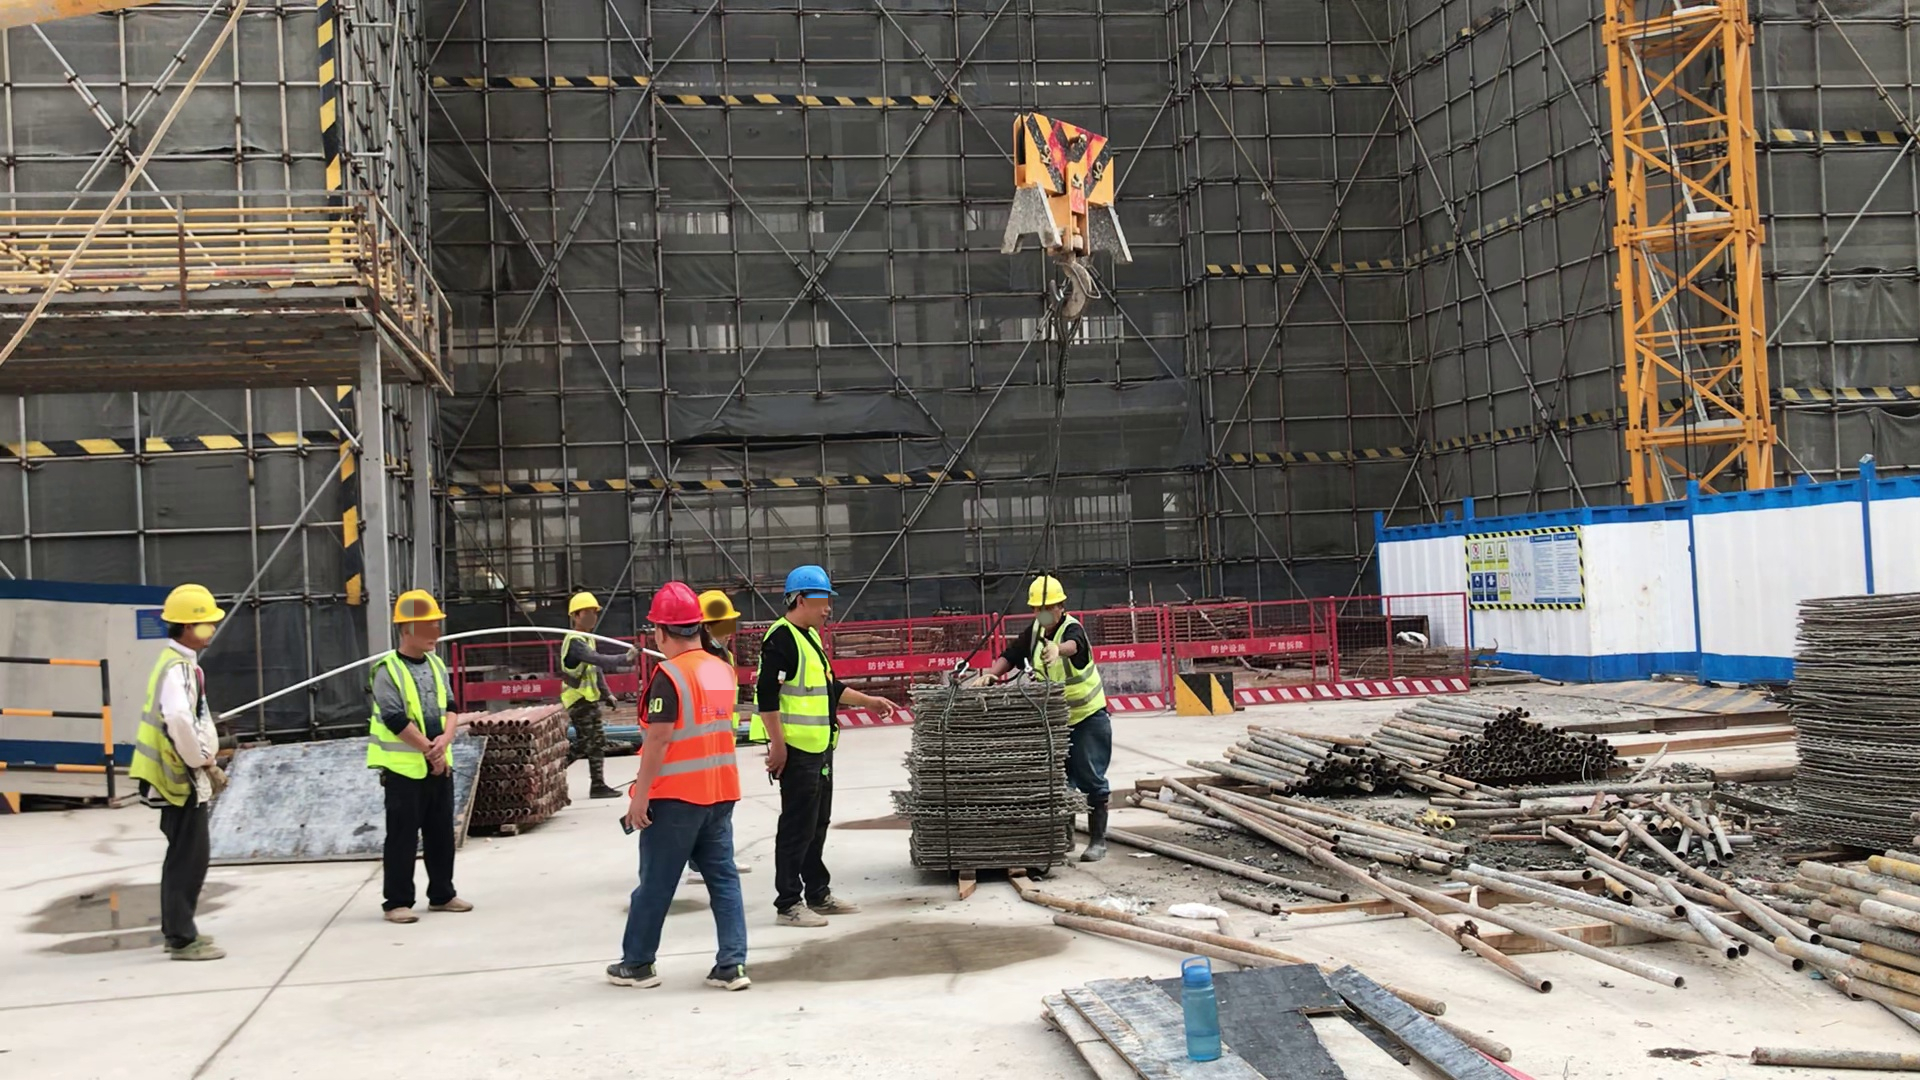fence: (1234, 590, 1478, 708), (1, 649, 121, 791), (858, 609, 987, 678), (1114, 601, 1166, 719), (487, 637, 558, 702)
helmet: (160, 583, 225, 626), (640, 582, 703, 625), (392, 589, 446, 624), (784, 567, 838, 600), (1025, 577, 1068, 608), (702, 590, 740, 623), (566, 592, 603, 614)
hook: (997, 109, 1130, 327)
person: (616, 580, 752, 996), (755, 565, 901, 933), (121, 579, 234, 969), (367, 586, 476, 930), (972, 576, 1099, 684), (560, 590, 624, 804), (700, 588, 742, 651)
scaffold: (1765, 838, 1920, 1026), (1389, 697, 1628, 783), (1196, 726, 1414, 800), (484, 700, 573, 835)
slogan: (1470, 530, 1582, 604)
vest: (630, 647, 742, 806), (125, 648, 204, 810), (750, 614, 841, 752), (367, 648, 455, 780), (1029, 616, 1107, 726), (561, 631, 603, 710)
